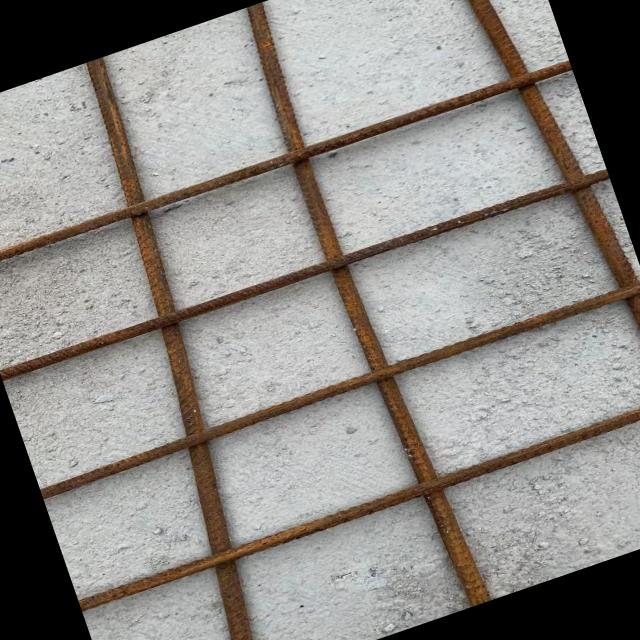ribbed bar: (28, 53, 319, 640), (229, 0, 494, 617), (0, 161, 608, 387), (38, 276, 640, 499), (0, 53, 571, 278), (77, 390, 640, 613), (429, 0, 640, 420)
